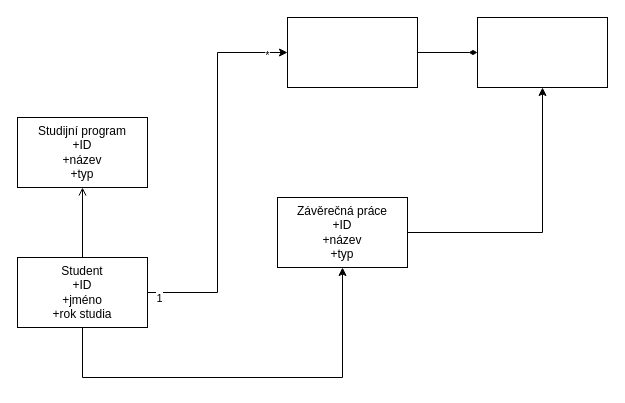
Some shapes in this 625 by 403 pixel diagram are drawn without their labels. Each missing label, with the centre of its shape:
Kurz +ID +název +kreditní hodnota: point 352,52
Vyučující +ID +jméno +titul: point 542,52
